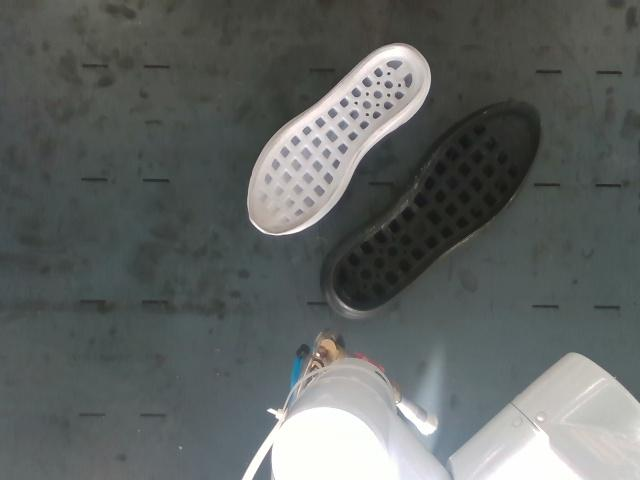shoes: (332, 103, 540, 311), (248, 47, 425, 234)
